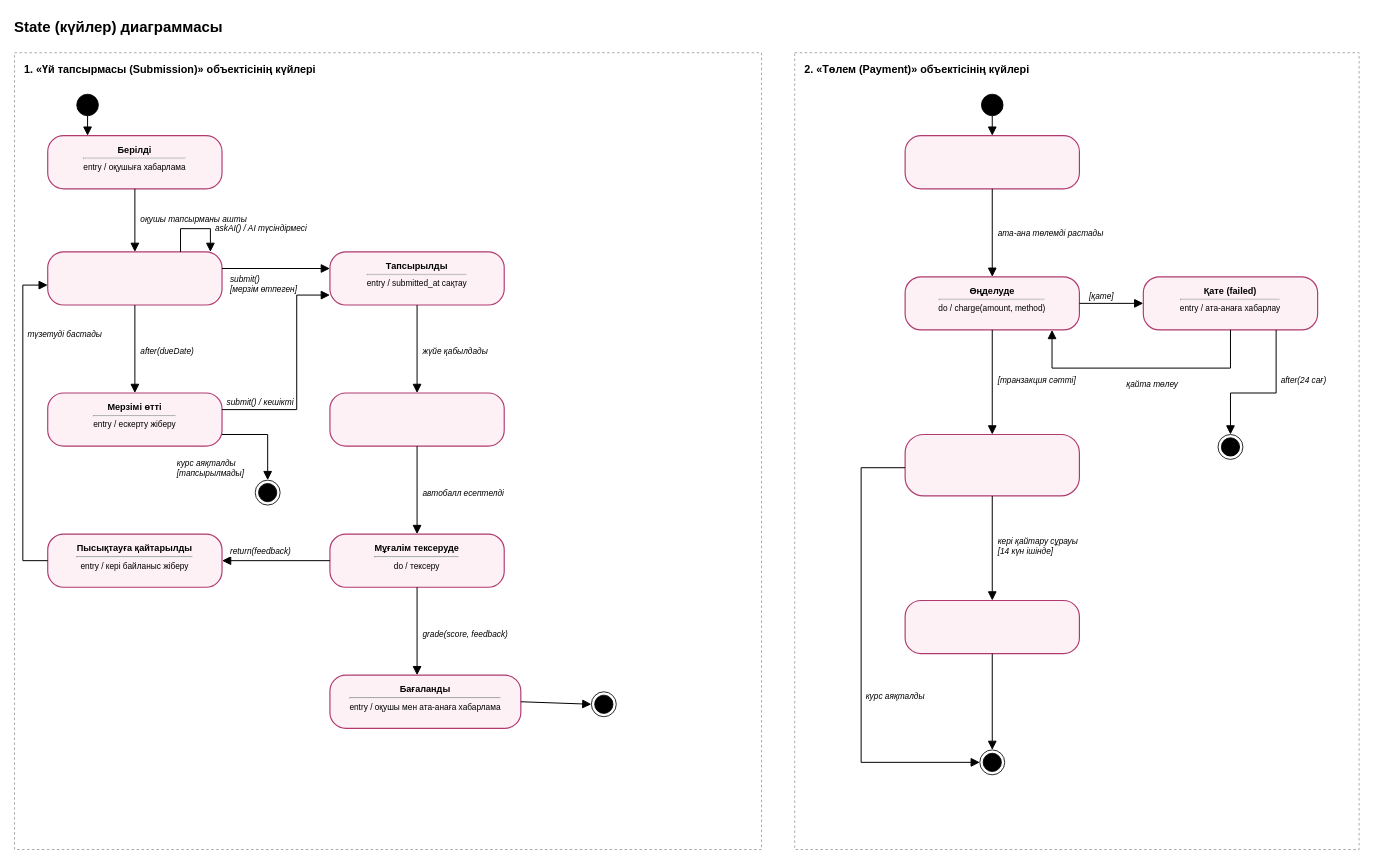
This 1374x864 diagram has some shape labels left out. Each missing label, with the box of its shape:
Автотексеруде do / autoCheck(): (329, 392, 504, 446)
Күтуде (pending) entry / шот жасалды: (904, 135, 1080, 189)
Орындалуда do / жауап дайындау: (47, 251, 222, 305)
Төленді (paid) entry / жазылуды белсендіру, түбіртек жіберу: (904, 434, 1080, 496)
Қайтарылды (refunded) entry / қаражатты қайтару: (904, 600, 1080, 654)
